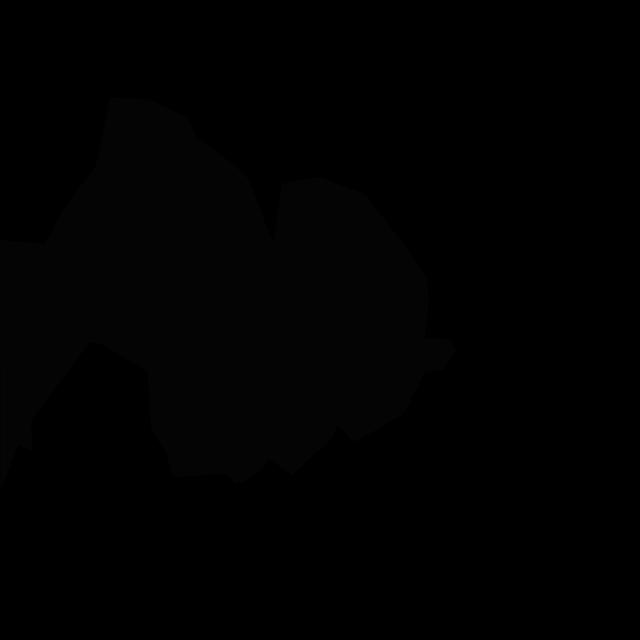soft_plastic: (0, 97, 456, 491)
